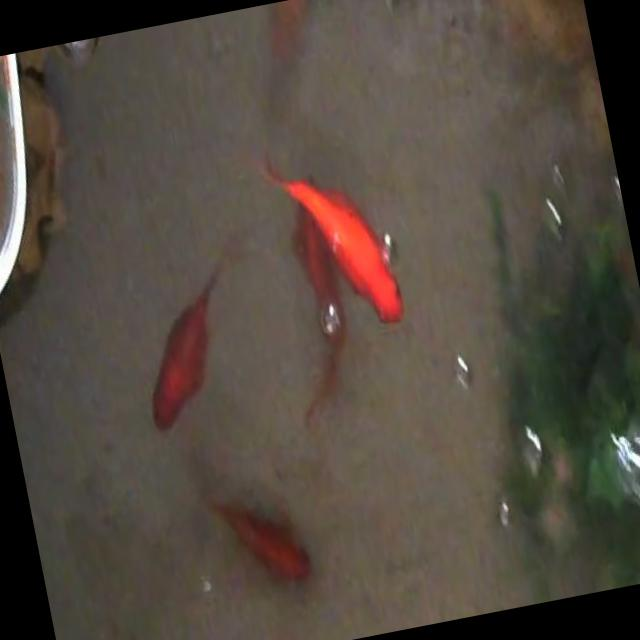fish: (254, 131, 407, 350), (118, 230, 270, 436), (265, 199, 367, 430), (203, 476, 317, 596), (259, 0, 321, 73)
